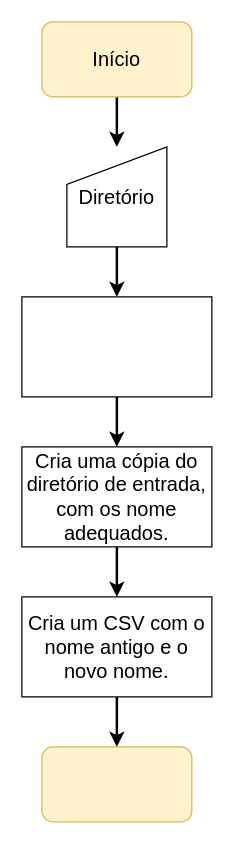
Image size: 234x844. Some labels were removed from this diagram. The shapes that lost their labels are listed below. From the top down, each one's box as (x1, y1, x2, y2) in pixels, then its label:
(21, 296, 212, 397): Adequa os diretórios de entrada. Ex. a -> f01 b -> f02
(41, 746, 192, 822): Fim
